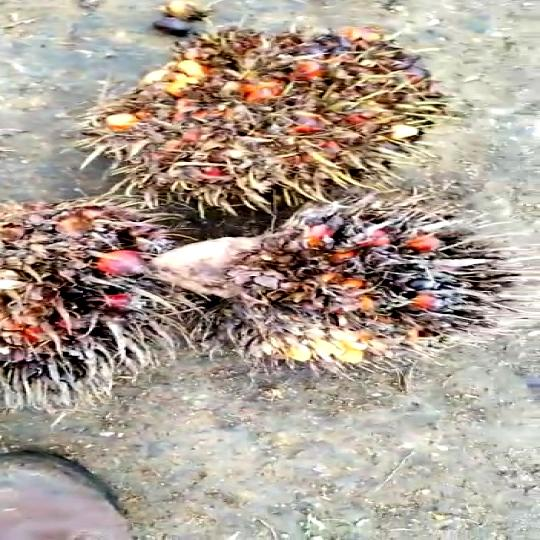terlalu masak: (87, 35, 447, 225), (159, 192, 513, 378)
